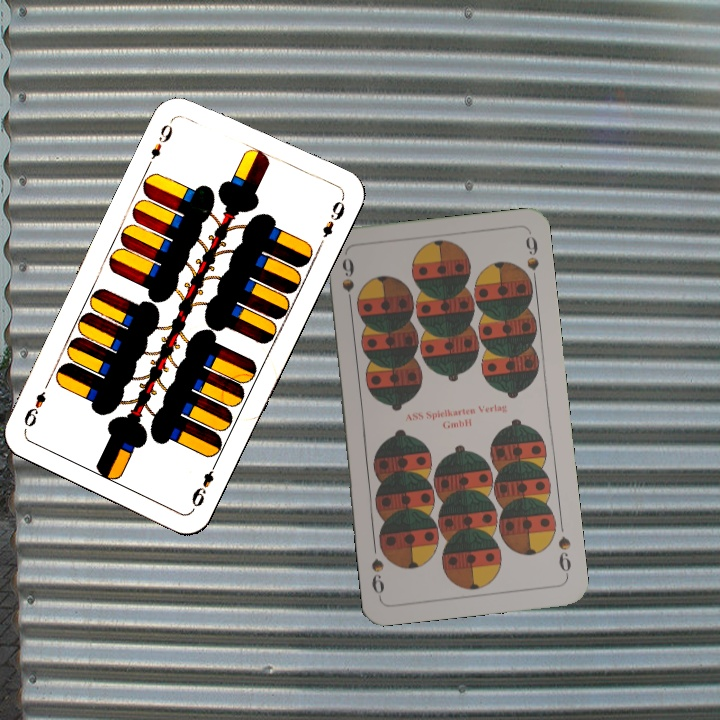E9: (143, 114, 178, 169), (187, 456, 221, 512)
S9: (337, 254, 357, 311), (554, 532, 574, 580)
